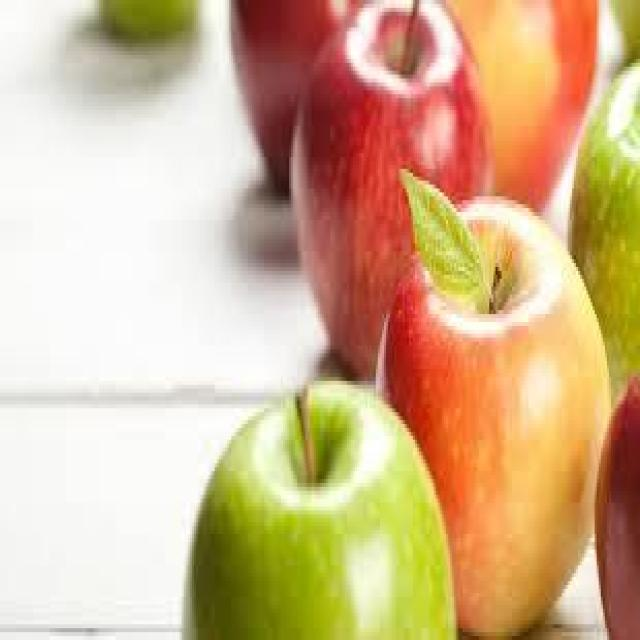maca: (374, 165, 611, 636), (289, 0, 496, 377), (182, 373, 458, 636)
